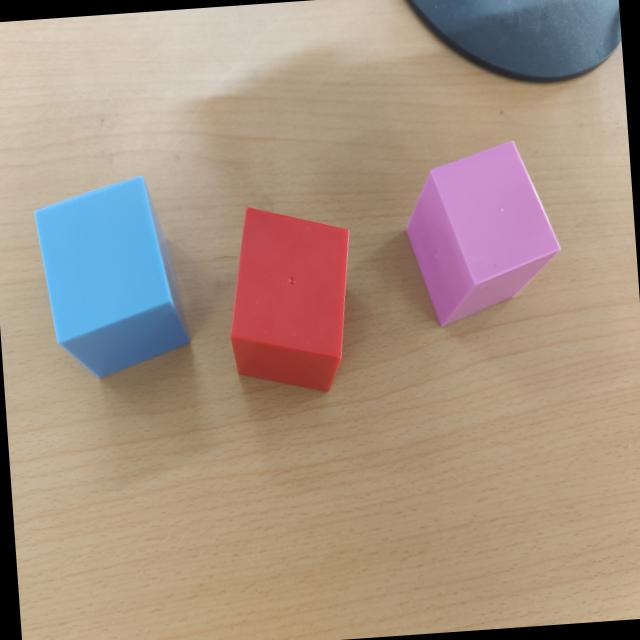blue: (33, 175, 190, 380)
pink: (405, 142, 562, 329)
red: (229, 207, 350, 393)
